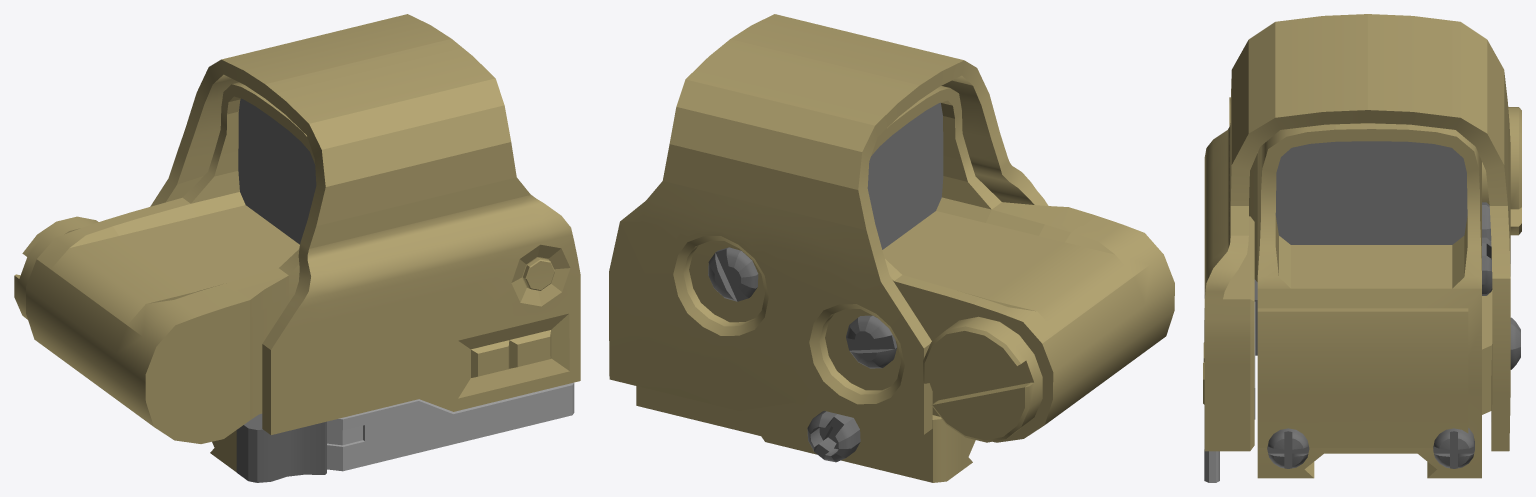
Rendered from Holo_Eotech_EXPS3.fbx.
3 renders of one model, left to right at view 1: azimuth 30°, elevation 25°; view 2: azimuth 150°, elevation 25°; view 3: azimuth 270°, elevation 25°, orthographic. The views are drawn at different scales.
Parts seen in each view (by area): view 1: roof, mainbody, left_lever, front_lense, lever_part; view 2: roof, mainbody, front_lense, side_bottom_screw, side_back_screw, side_front_screw; view 3: mainbody, roof, back_lense, back_screw_2, back_screw_1, left_lever, side_back_screw, side_bottom_screw.
Part boxes in pixels (bbox=[...]): roof: bbox=[150, 14, 580, 434]; mainbody: bbox=[14, 82, 315, 471]; left_lever: bbox=[327, 382, 574, 471]; front_lense: bbox=[238, 98, 316, 244]; lever_part: bbox=[236, 413, 326, 482]; roof: bbox=[609, 14, 1048, 434]; mainbody: bbox=[636, 86, 1174, 482]; front_lense: bbox=[867, 102, 943, 249]; side_bottom_screw: bbox=[807, 411, 860, 462]; side_back_screw: bbox=[708, 247, 758, 301]; side_front_screw: bbox=[846, 315, 897, 368]; mainbody: bbox=[1229, 97, 1521, 478]; roof: bbox=[1203, 14, 1510, 451]; back_lense: bbox=[1275, 141, 1467, 244]; back_screw_2: bbox=[1433, 428, 1474, 468]; back_screw_1: bbox=[1267, 428, 1309, 468]; left_lever: bbox=[1204, 302, 1255, 482]; side_back_screw: bbox=[1482, 237, 1492, 295]; side_bottom_screw: bbox=[1510, 317, 1520, 369].
Size of the model in its own units: 10.63 by 7.75 by 6.42.
